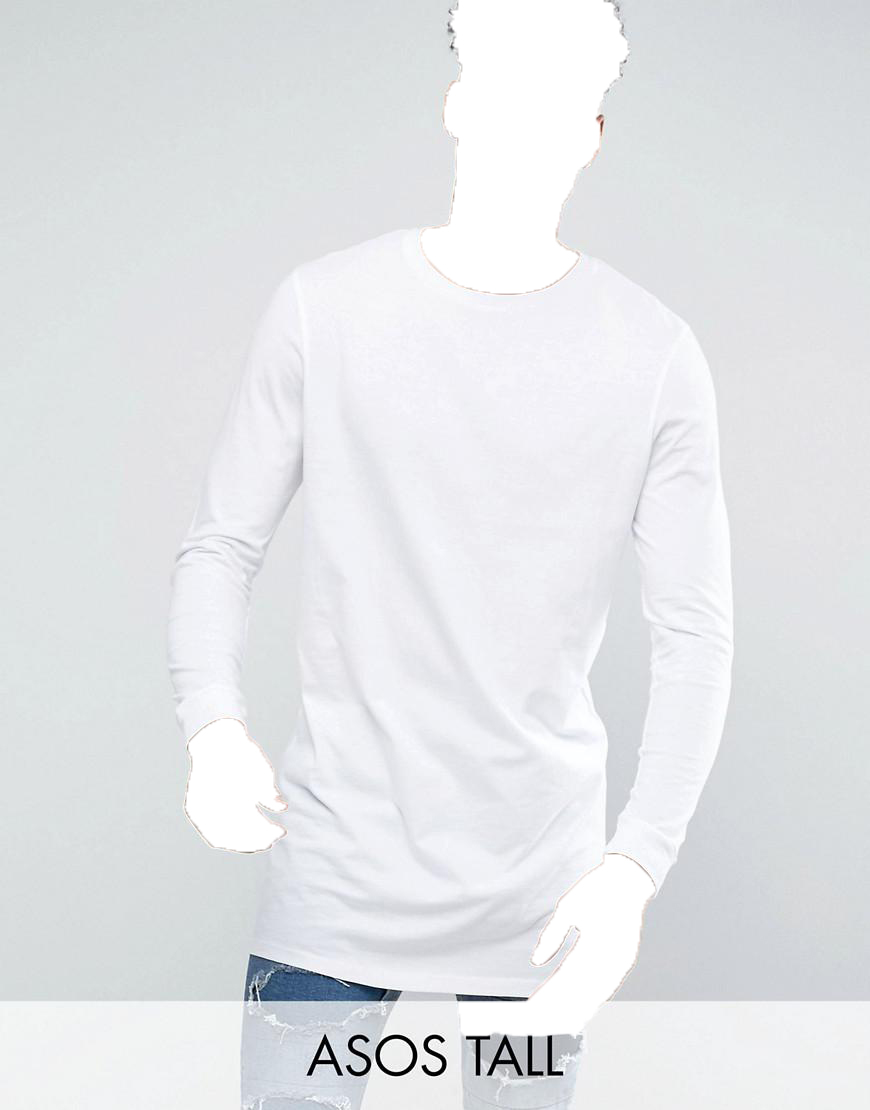teeshirt: (161, 225, 754, 1000)
